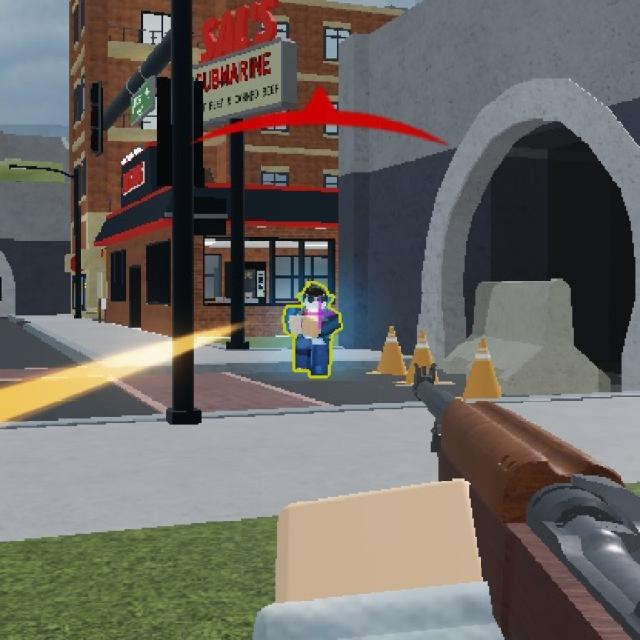player: (290, 283, 340, 377)
